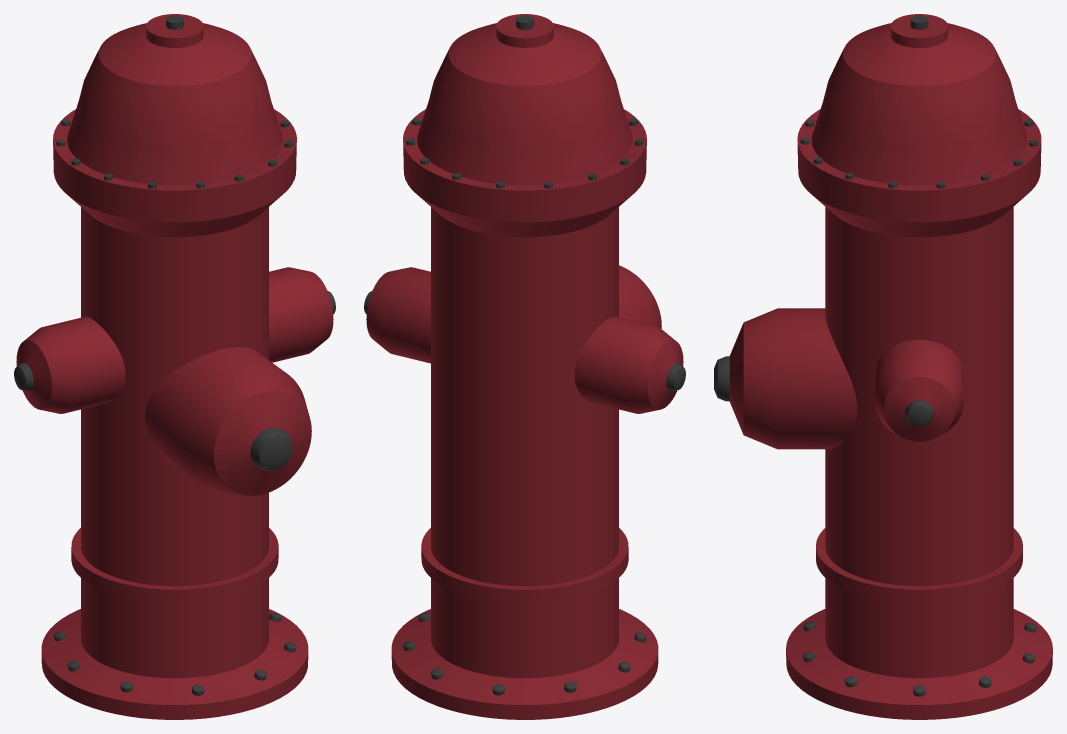
The model's file is hydrant.fbx.
3 renders of one model, left to right at view 1: azimuth 30°, elevation 25°; view 2: azimuth 150°, elevation 25°; view 3: azimuth 270°, elevation 25°, orthographic.
Parts seen in each view (by area): view 1: hydrant; view 2: hydrant; view 3: hydrant.
Part boxes in pixels (x1,y1,x2,y2): hydrant: [14, 14, 335, 719]; hydrant: [364, 14, 685, 719]; hydrant: [714, 14, 1052, 719].
Size of the model in its own units: 38.03 by 74.66 by 35.59.
